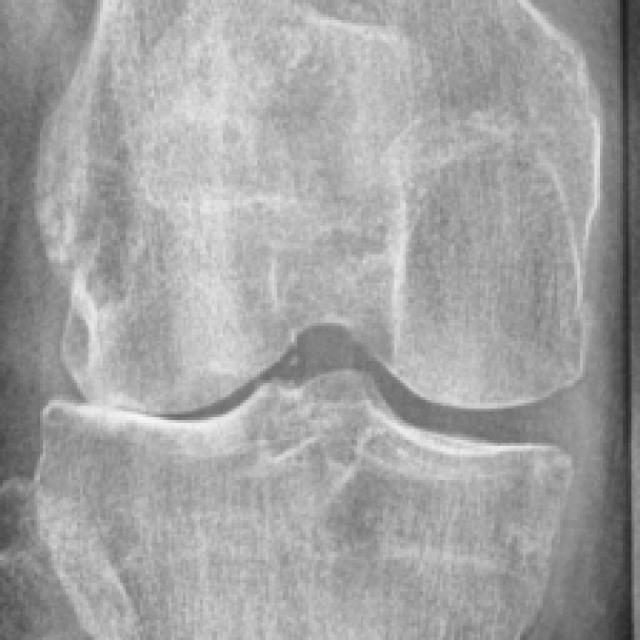femur: (43, 1, 599, 413)
tibia: (40, 371, 566, 637)
